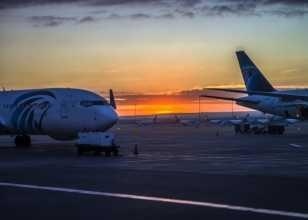airplane: (2, 77, 115, 141), (219, 47, 308, 128)
